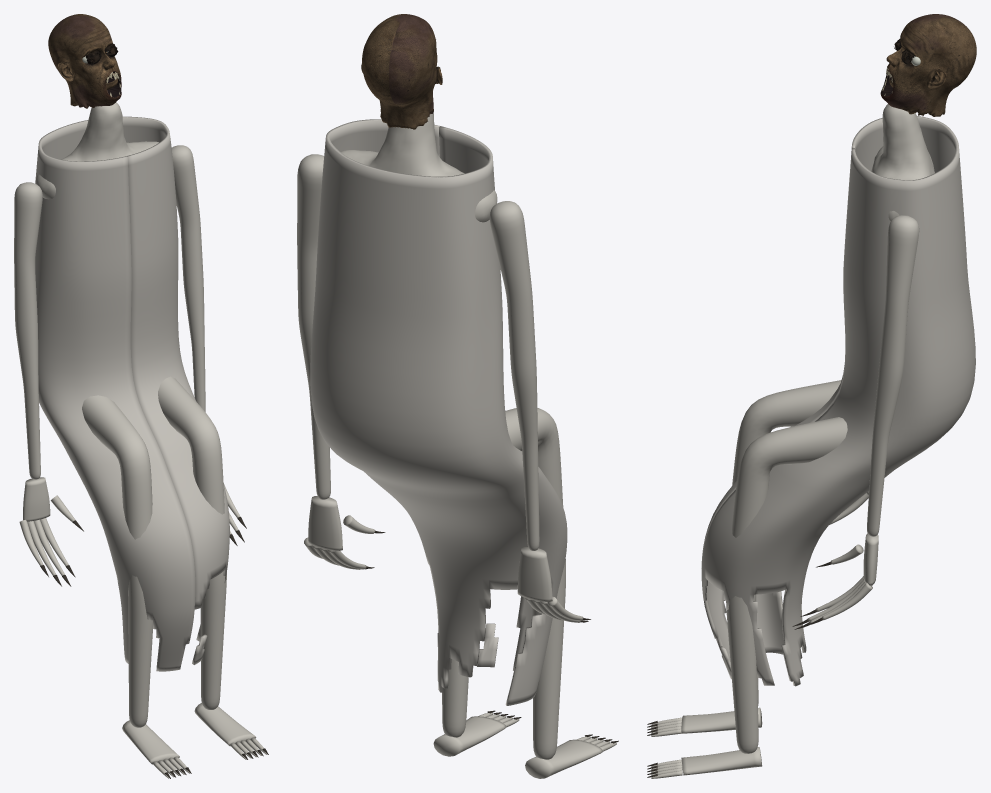
Rendered from seated-visitor.glb.
The picture shows the model from 3 angles, left to right: view 1: azimuth 30°, elevation 25°; view 2: azimuth 150°, elevation 25°; view 3: azimuth 270°, elevation 25°; orthographic projection. The views are drawn at different scales.
Visible parts, largest first — view 1: Torso, LegL, ArmL, LegR, Head, ArmR; view 2: Torso, ArmL, ArmR, LegL, Head, LegR; view 3: Torso, LegR, ArmR, Head, LegL.
Boxes of the visible parts, x1,y1,x2,y2 form: Torso: (35, 102, 229, 671); LegL: (82, 395, 191, 778); ArmL: (14, 182, 83, 586); LegR: (158, 376, 268, 759); Head: (48, 14, 121, 108); ArmR: (171, 145, 246, 545); Torso: (310, 113, 567, 705); ArmL: (489, 201, 590, 622); ArmR: (297, 154, 385, 569); LegL: (505, 408, 618, 778); Head: (361, 14, 442, 129); LegR: (433, 659, 521, 756); Torso: (701, 104, 975, 686); LegR: (647, 417, 847, 778); ArmR: (792, 215, 919, 629); Head: (880, 14, 976, 116); LegL: (647, 380, 841, 736).
Size of the model in its own units: 0.626 by 1.96 by 0.798.
Materials: 7 (1 with a texture image).
